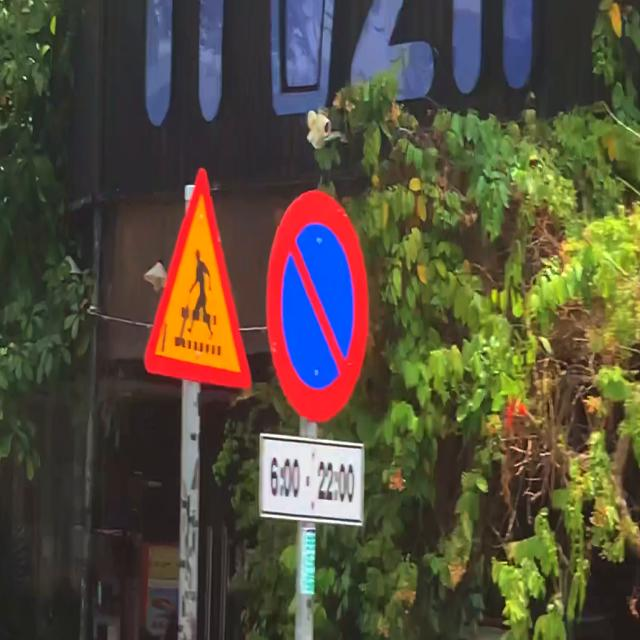Cam do: (268, 186, 368, 418)
Nguoi di bo cat ngang: (144, 162, 253, 391)
